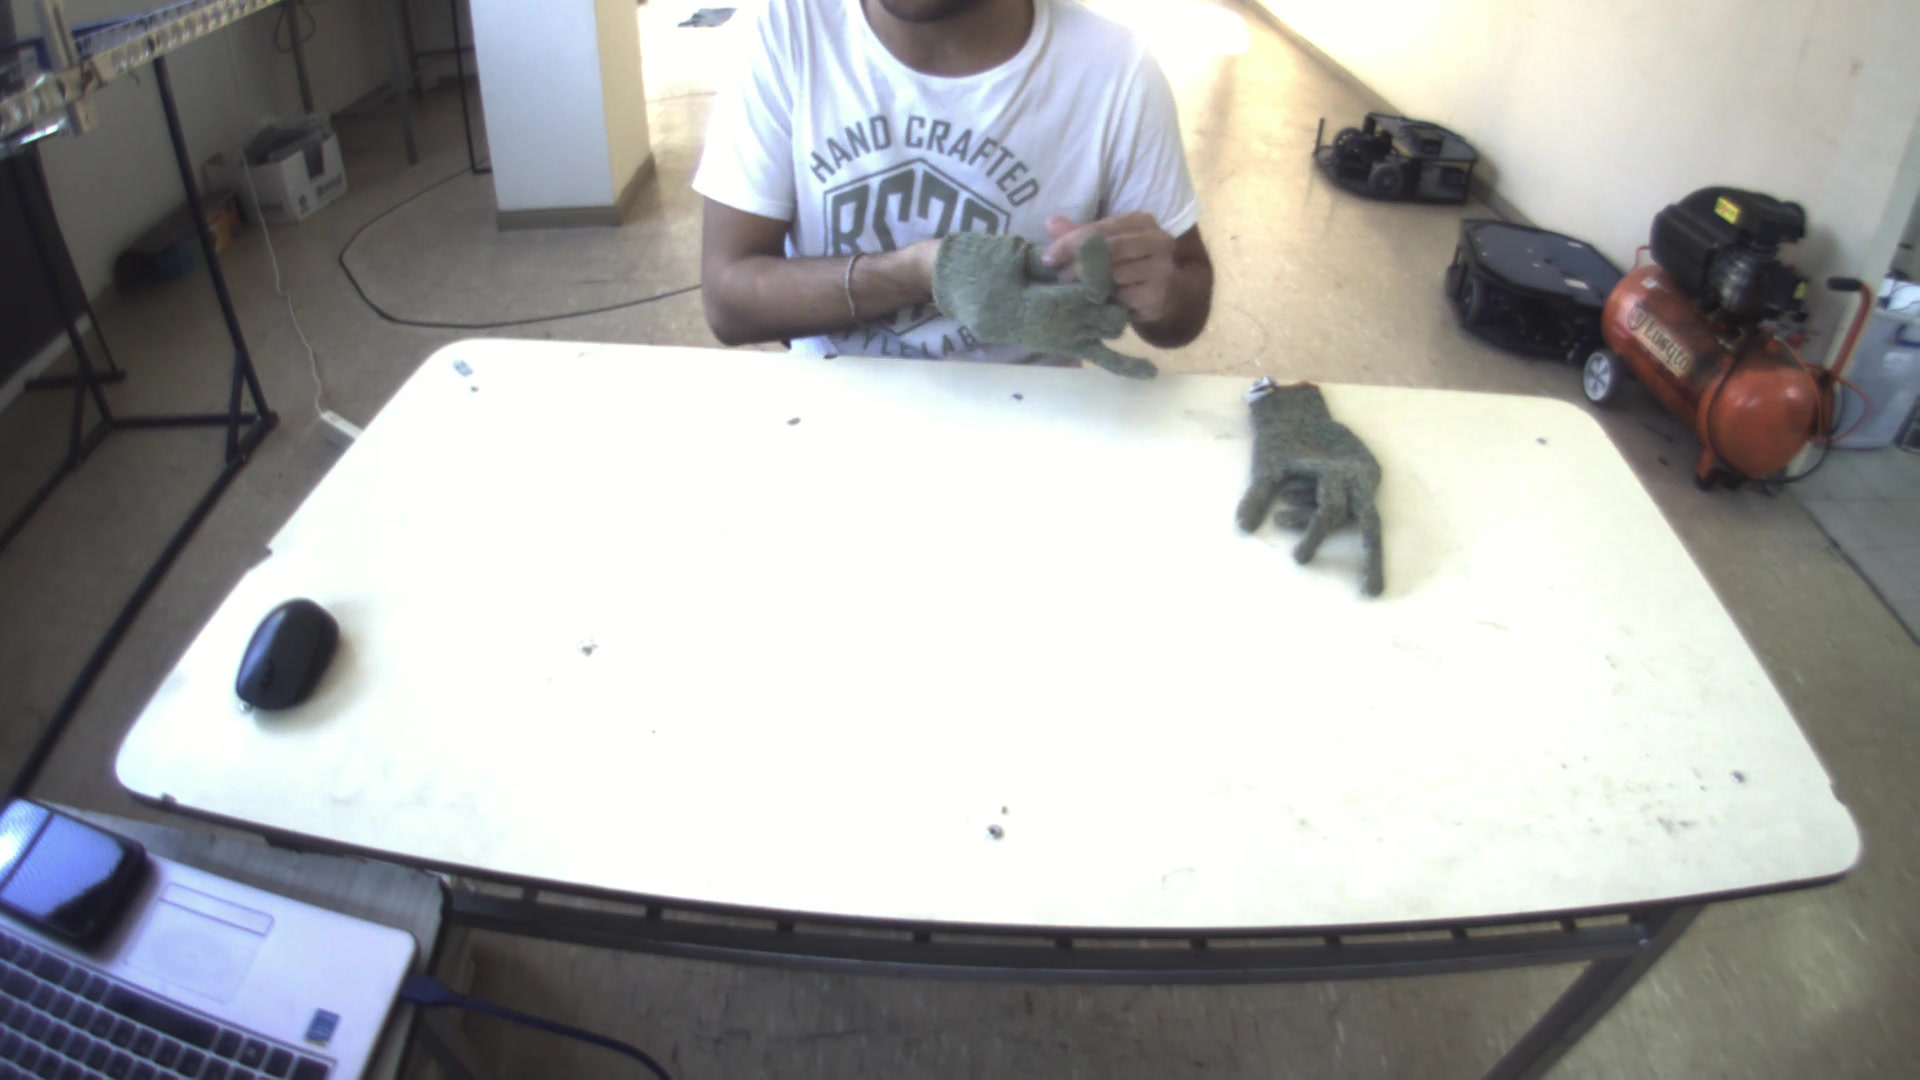hand: (924, 222, 1131, 356), (1051, 196, 1201, 315)
